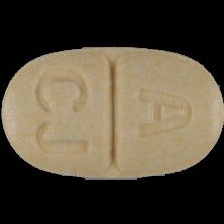63629-3377: (0, 0, 224, 224)
